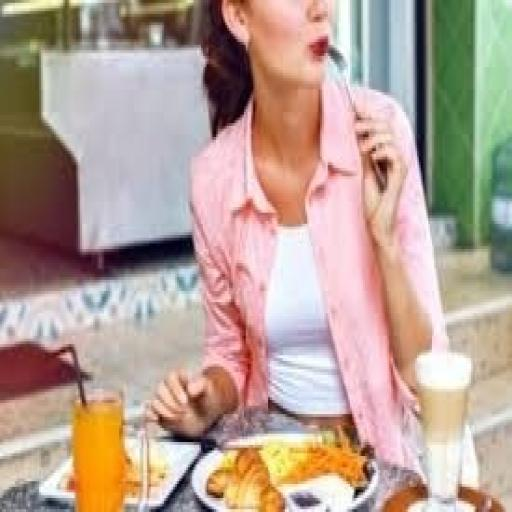eating: (144, 0, 464, 509)
